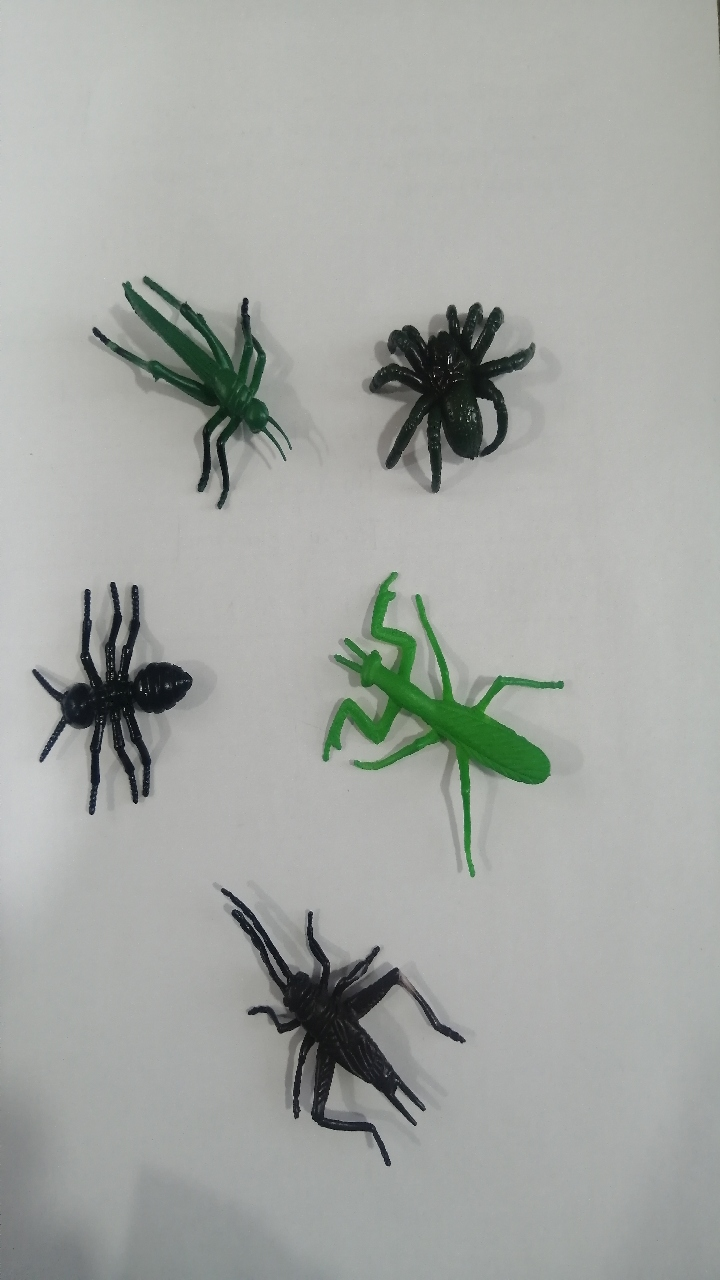intruso: (284, 540, 588, 900), (174, 852, 484, 1169), (61, 226, 341, 520), (3, 565, 224, 849), (338, 254, 561, 529)
